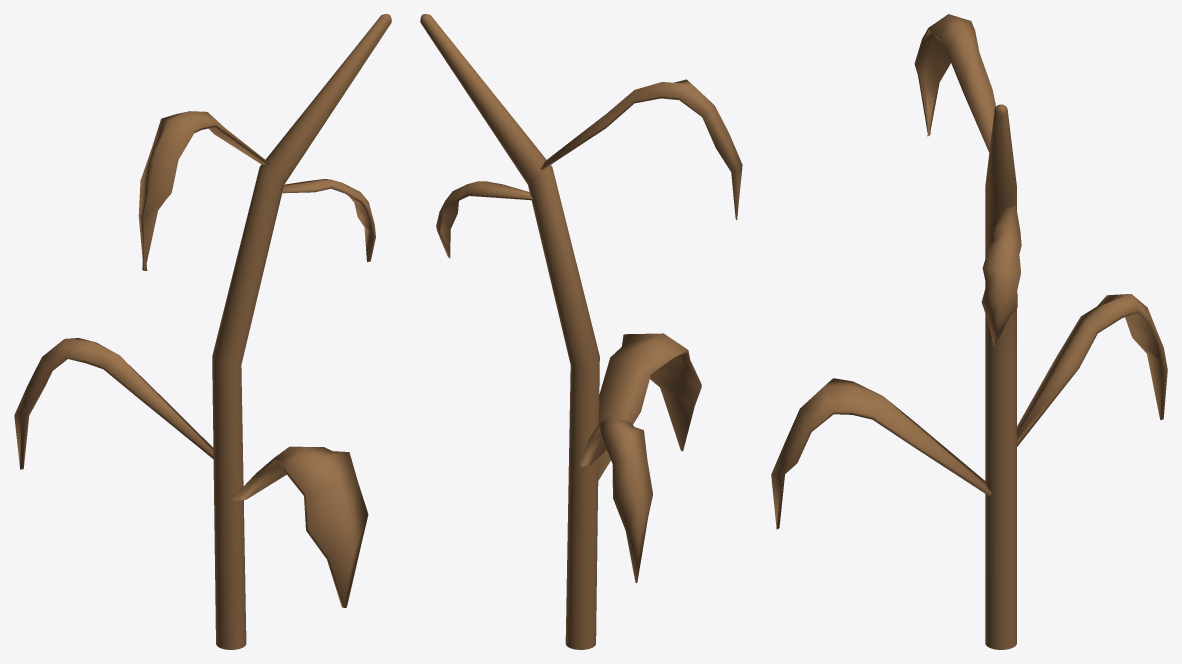
Rendered from DeadCornPlant.fbx.
3 renders of one model, left to right at view 1: azimuth 30°, elevation 25°; view 2: azimuth 150°, elevation 25°; view 3: azimuth 270°, elevation 25°, orthographic. The views are drawn at different scales.
Parts seen in each view (by area): view 1: Cylinder, Plane.003, Plane.002, Plane.006, Plane.008; view 2: Cylinder, Plane.003, Plane.002, Plane.006, Plane.008; view 3: Cylinder, Plane.003, Plane.002, Plane.006, Plane.008.
Boxes of the visible parts, <box> form: Cylinder: <box>212,14,391,649</box>; Plane.003: <box>233,446,368,607</box>; Plane.002: <box>14,338,213,469</box>; Plane.006: <box>138,111,269,270</box>; Plane.008: <box>282,179,375,262</box>; Cylinder: <box>420,14,599,649</box>; Plane.003: <box>598,333,701,480</box>; Plane.002: <box>580,416,652,582</box>; Plane.006: <box>540,79,742,219</box>; Plane.008: <box>436,181,532,258</box>; Cylinder: <box>985,104,1016,649</box>; Plane.003: <box>771,378,991,529</box>; Plane.002: <box>1017,294,1167,446</box>; Plane.006: <box>914,14,995,152</box>; Plane.008: <box>981,205,1021,346</box>.
Bounding box in the file's own units: 462 × 876 × 511.
